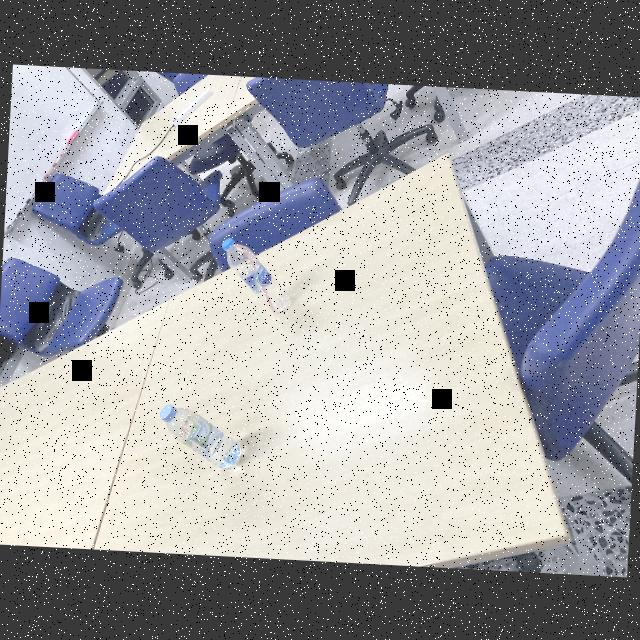plastic_bottle: (216, 235, 299, 314), (156, 402, 246, 470)
plastic_bottle_cap: (158, 402, 178, 422), (222, 237, 234, 251)
straw: (240, 248, 280, 312)
